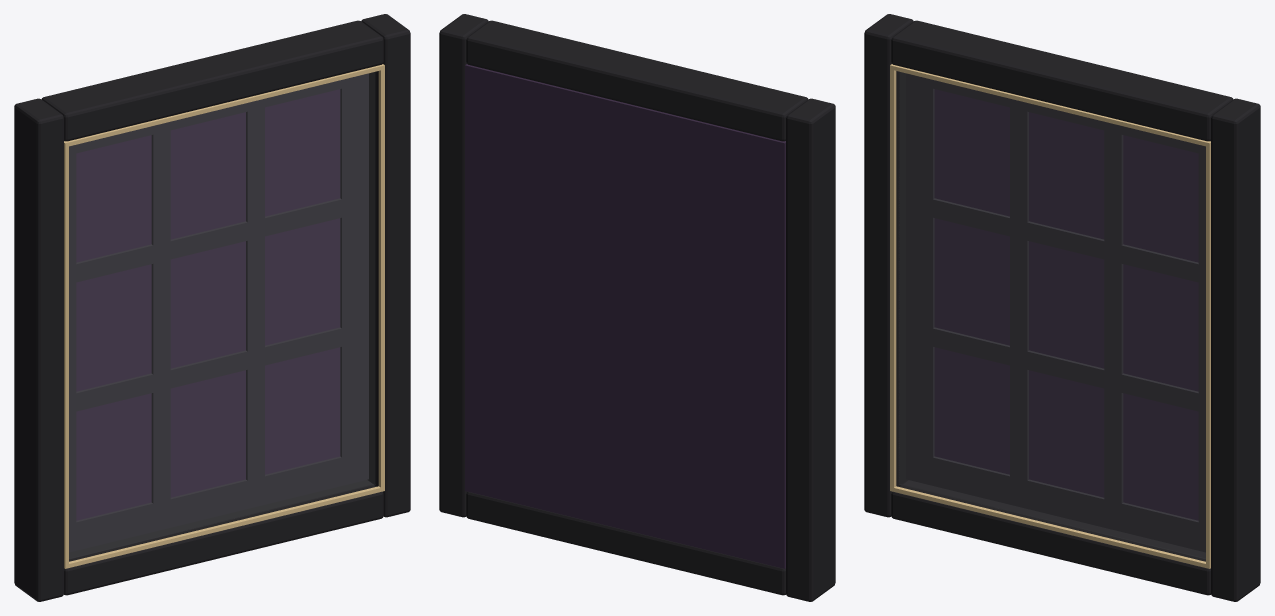
The model's file is card_wall_frame.glb.
3 views of the same model, side by side, from view 1: azimuth 30°, elevation 25°; view 2: azimuth 150°, elevation 25°; view 3: azimuth 330°, elevation 25° (orthographic).
Visible parts, largest first — view 1: backing, mat_board, frame_side_-1, frame_side_1, frame_top, frame_bottom, lip_right, lip_bottom, lip_left, lip_top; view 2: backing, frame_side_-1, frame_top, frame_side_1, frame_bottom; view 3: backing, mat_board, frame_side_1, frame_side_-1, frame_top, frame_bottom, lip_left, lip_bottom, lip_right, lip_top.
Part boxes in pixels (x1,y1,x2,y2): backing: (76, 89, 340, 520); mat_board: (64, 73, 368, 552); frame_side_-1: (14, 98, 63, 601); frame_side_1: (361, 14, 410, 517); frame_top: (41, 20, 383, 141); frame_bottom: (64, 480, 383, 595); lip_right: (378, 64, 384, 491); lip_bottom: (65, 486, 384, 568); lip_left: (64, 141, 68, 568); lip_top: (66, 65, 384, 146); backing: (465, 64, 785, 568); frame_side_-1: (786, 98, 835, 601); frame_top: (466, 20, 808, 141); frame_side_1: (439, 14, 488, 517); frame_bottom: (466, 491, 785, 595); backing: (934, 89, 1198, 520); mat_board: (906, 73, 1210, 552); frame_side_1: (1211, 98, 1260, 601); frame_side_-1: (864, 14, 913, 517); frame_top: (891, 20, 1233, 141); frame_bottom: (891, 480, 1210, 595); lip_left: (890, 64, 896, 491); lip_bottom: (890, 486, 1210, 568); lip_right: (1206, 141, 1210, 568); lip_top: (890, 65, 1209, 146).
Bounding box in the file's own units: 0.3868 × 0.4768 × 0.045.
